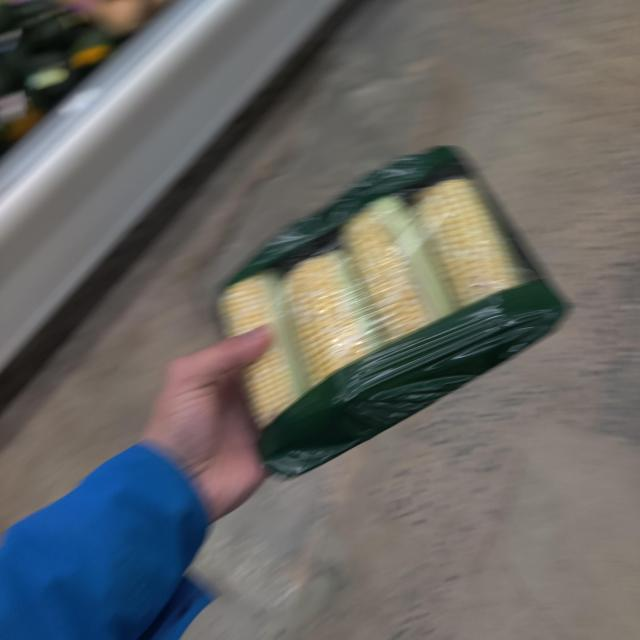Corn: (204, 149, 575, 471)
